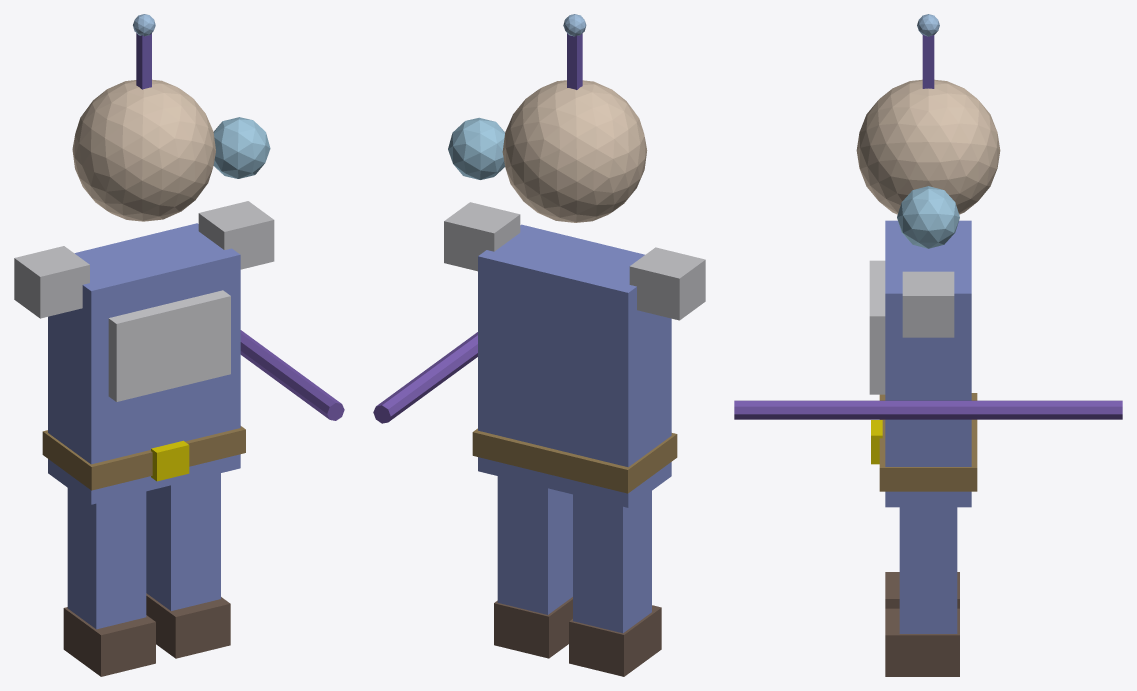
File: mage_m.glb
3 renders of one model, left to right at view 1: azimuth 30°, elevation 25°; view 2: azimuth 150°, elevation 25°; view 3: azimuth 270°, elevation 25°, orthographic.
Parts seen in each view (by area): view 1: geometry_0; view 2: geometry_0; view 3: geometry_0.
Part boxes in pixels (bbox=[...]): geometry_0: bbox=[14, 14, 344, 676]; geometry_0: bbox=[373, 14, 705, 676]; geometry_0: bbox=[734, 14, 1122, 676].
Bounding box in the file's own units: 0.96 × 2.42 × 1.35.
